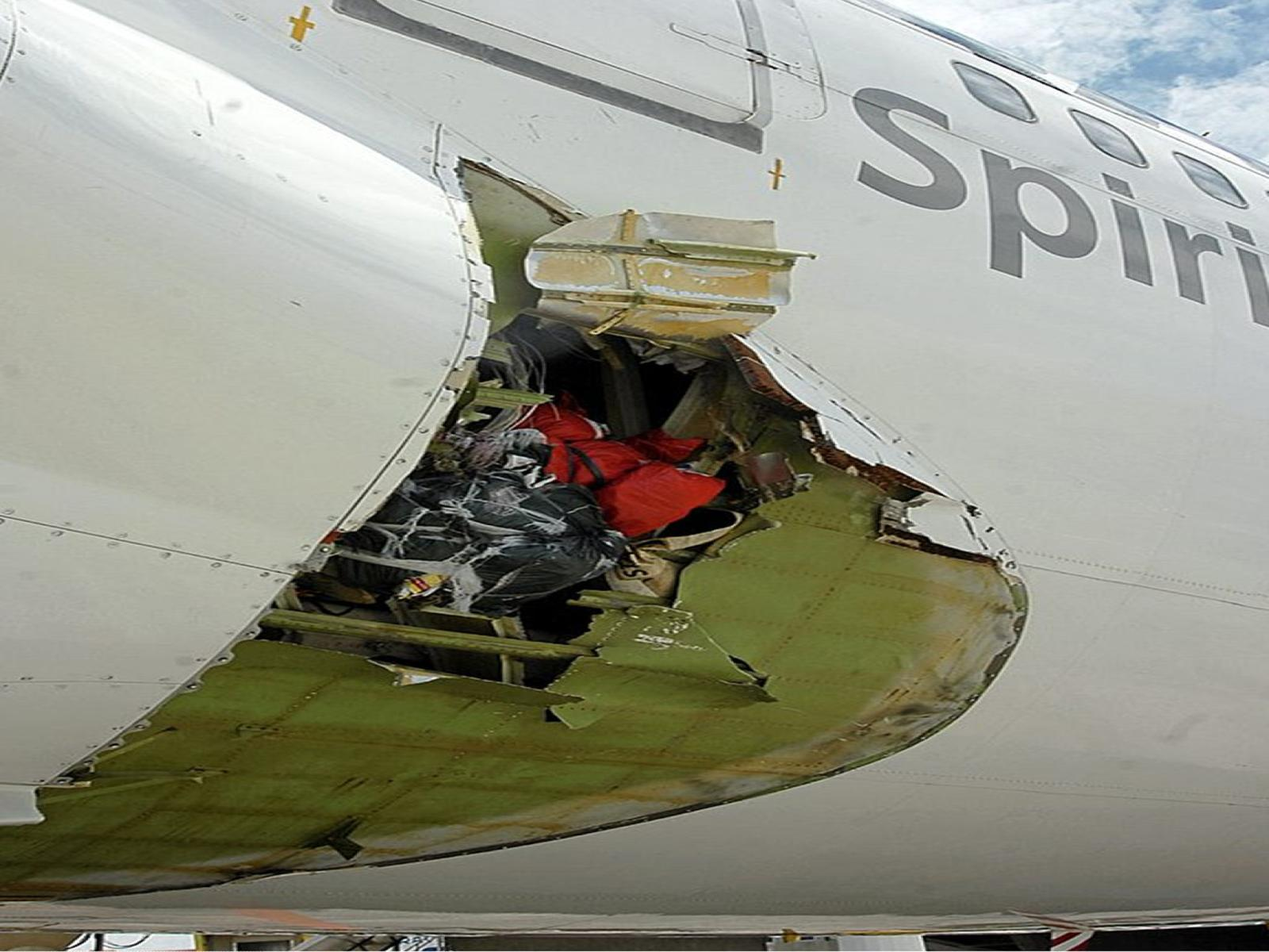Fuselage_damage: (328, 431, 627, 617), (551, 339, 819, 490), (518, 392, 724, 537), (607, 521, 739, 603)
Skin_Cover: (0, 467, 1024, 899), (525, 210, 812, 342), (457, 159, 570, 326)
